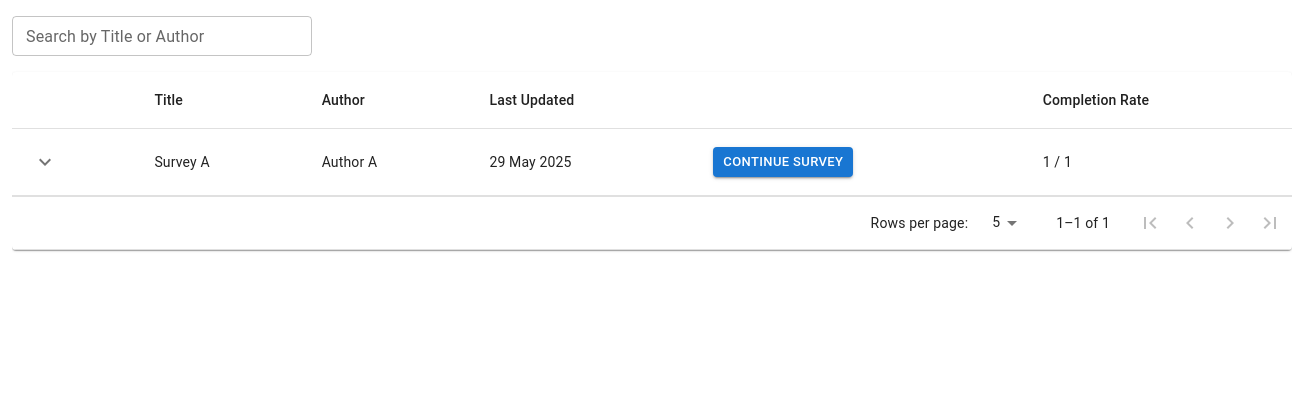
Test: Saved Surveys › expands survey to show questions
The width and height of the screenshot is (1304, 394).
expect the text "Survey A" is shown: met, box [138,128,306,196]
Click the button named "expand row".
click(45, 162)  # box [28,145,62,179]
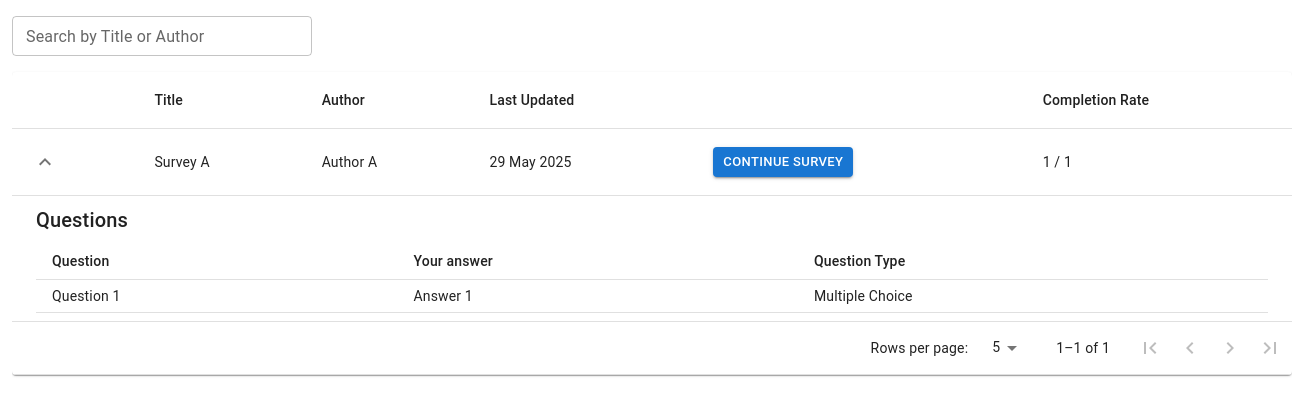
expect the text "Question 1" is shown: met, box [36,280,398,312]
expect the text "Answer 1" is shown: met, box [398,280,798,312]
